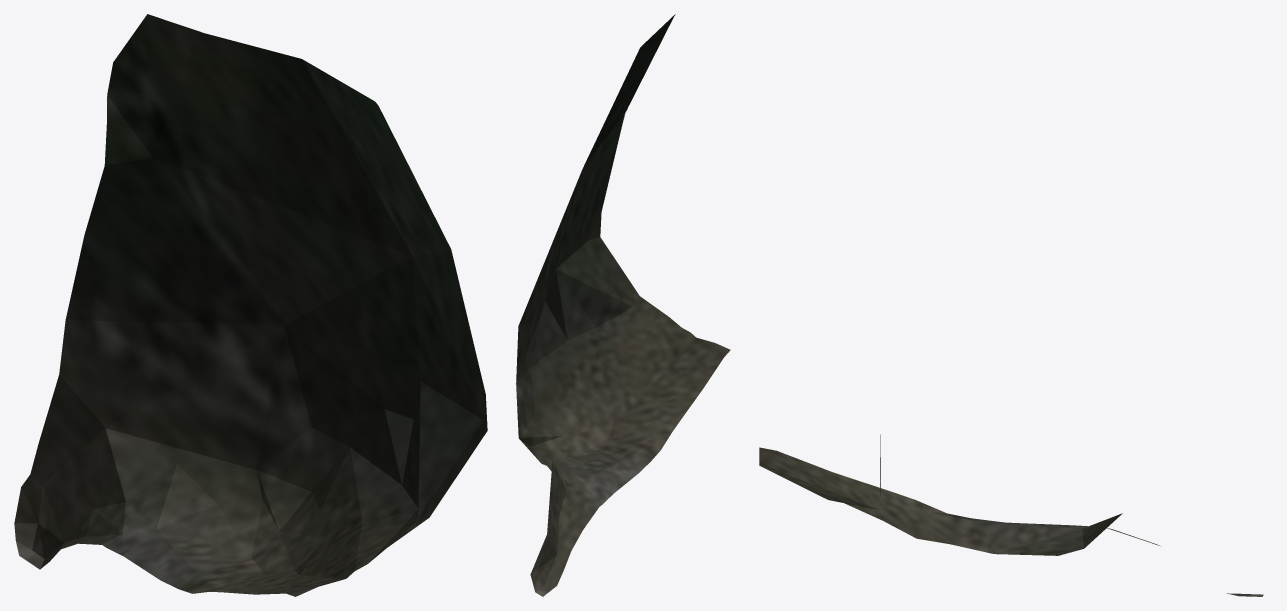
3 views of the same model, side by side, from view 1: azimuth 30°, elevation 25°; view 2: azimuth 150°, elevation 25°; view 3: azimuth 270°, elevation 25° (orthographic). The views are drawn at different scales.
Bounding box in the file's own units: 1.3 × 3.81 × 3.06.
1 material, 1 textured.
